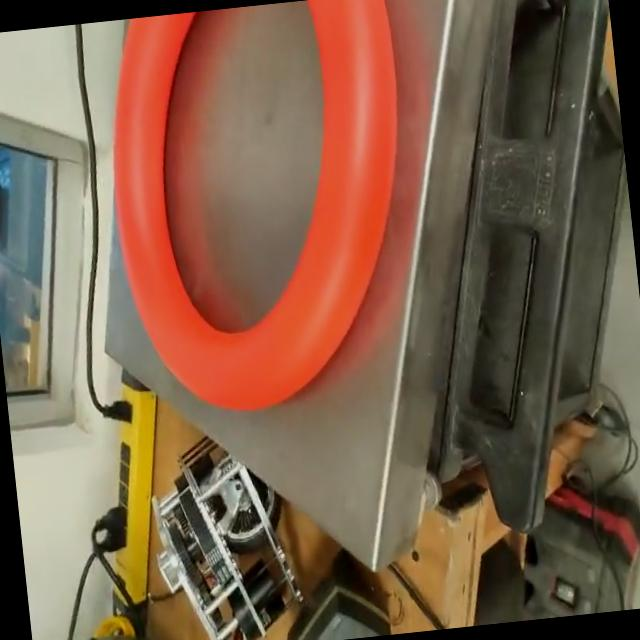note: (90, 0, 436, 427)
